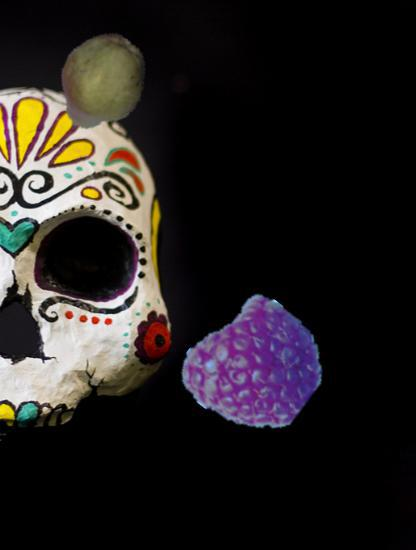Pear: (48, 30, 156, 138)
Raspberry: (192, 302, 322, 432)
